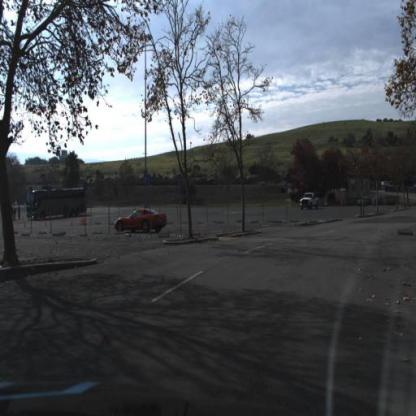car: (114, 207, 169, 234), (301, 189, 324, 214)
truck: (25, 185, 87, 221)
